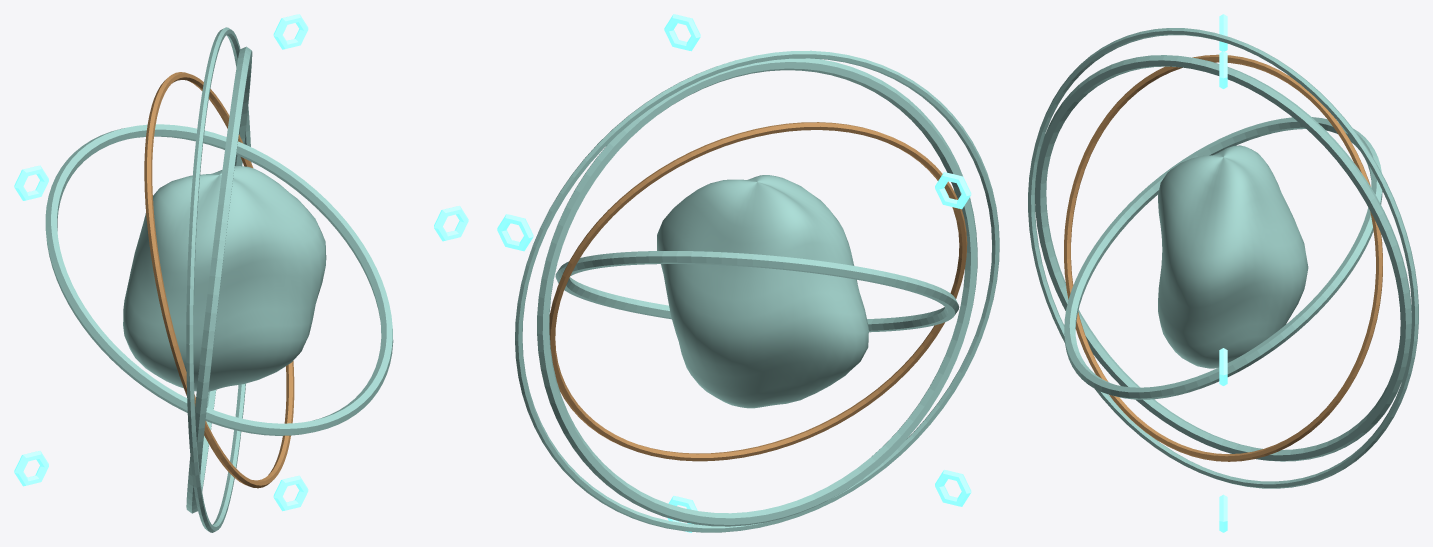
Rendered from node-core.glb.
The picture shows the model from 3 angles, left to right: view 1: azimuth 30°, elevation 25°; view 2: azimuth 150°, elevation 25°; view 3: azimuth 270°, elevation 25°; orthographic projection. The views are drawn at different scales.
Visible parts, largest first — view 1: LMW_Core, LMW_Core_ring_0, LMW_Core_ring_2, LMW_Core_ring_3, LMW_Core_ring_1, LMW_Core_satellite_2, LMW_Core_satellite_4, LMW_Core_satellite_0, LMW_Core_satellite_1, LMW_Core_satellite_3; view 2: LMW_Core, LMW_Core_ring_2, LMW_Core_ring_3, LMW_Core_ring_1, LMW_Core_ring_0, LMW_Core_satellite_0, LMW_Core_satellite_1, LMW_Core_satellite_2, LMW_Core_satellite_3; view 3: LMW_Core, LMW_Core_ring_2, LMW_Core_ring_0, LMW_Core_ring_3, LMW_Core_ring_1.
Part boxes in pixels (box(x1,y1,x2,y2)): LMW_Core: box(123, 165, 326, 391); LMW_Core_ring_0: box(45, 124, 393, 435); LMW_Core_ring_2: box(186, 46, 252, 513); LMW_Core_ring_3: box(186, 27, 251, 532); LMW_Core_ring_1: box(144, 72, 294, 488); LMW_Core_satellite_2: box(14, 165, 48, 200); LMW_Core_satellite_4: box(273, 475, 308, 511); LMW_Core_satellite_0: box(434, 205, 468, 241); LMW_Core_satellite_1: box(273, 14, 308, 49); LMW_Core_satellite_3: box(14, 450, 48, 486); LMW_Core: box(657, 175, 868, 408); LMW_Core_ring_2: box(537, 58, 977, 526); LMW_Core_ring_3: box(515, 50, 999, 532); LMW_Core_ring_1: box(549, 122, 967, 461); LMW_Core_ring_0: box(555, 251, 959, 332); LMW_Core_satellite_0: box(497, 214, 533, 251); LMW_Core_satellite_1: box(664, 14, 700, 51); LMW_Core_satellite_2: box(935, 172, 971, 209); LMW_Core_satellite_3: box(935, 469, 971, 506); LMW_Core: box(1158, 145, 1308, 368); LMW_Core_ring_2: box(1035, 55, 1411, 461); LMW_Core_ring_0: box(1064, 117, 1382, 399); LMW_Core_ring_3: box(1028, 28, 1418, 488); LMW_Core_ring_1: box(1064, 54, 1382, 461).
Bounding box in the file's own units: 5.88 × 6.1 × 4.56.
